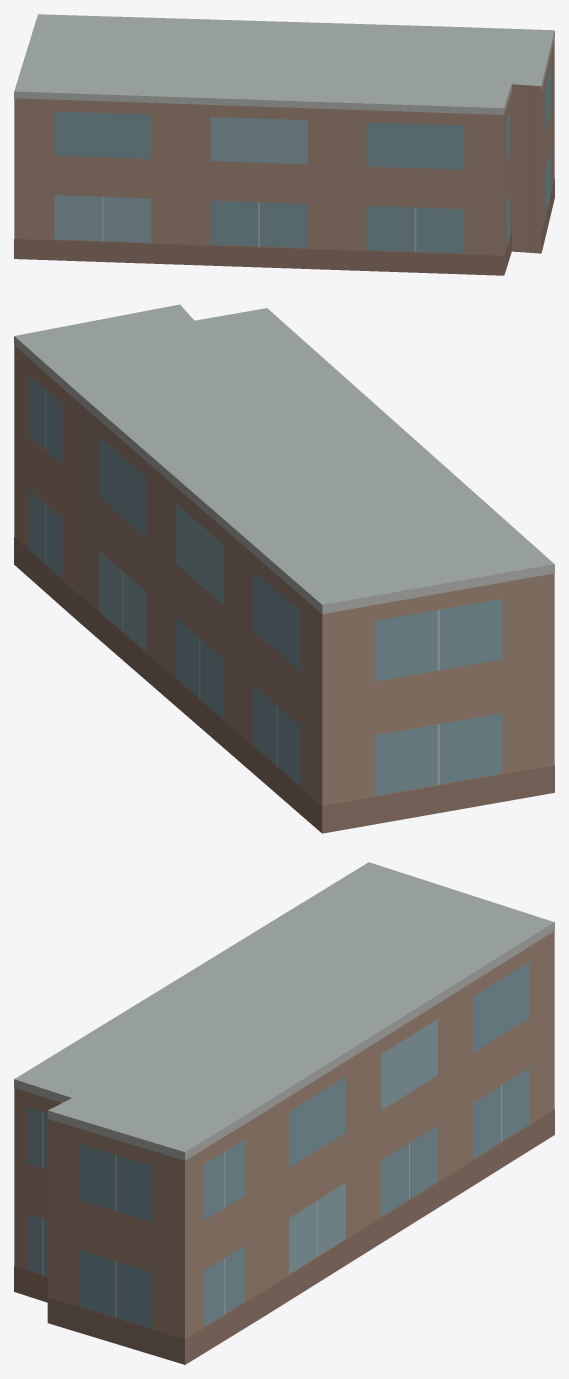
The model's file is survey-upis-32669600.glb.
The picture shows the model from 3 angles, top to bottom: view 1: azimuth 30°, elevation 25°; view 2: azimuth 150°, elevation 25°; view 3: azimuth 270°, elevation 25°; orthographic projection. The views are drawn at different scales.
Visible parts, largest first — view 1: survey-upis-32669600.tmp; view 2: survey-upis-32669600.tmp; view 3: survey-upis-32669600.tmp.
Part boxes in pixels (x1,y1,x2,y2): survey-upis-32669600.tmp: (14,14,554,275); survey-upis-32669600.tmp: (14,304,554,833); survey-upis-32669600.tmp: (14,862,554,1364).
Bounding box in the file's own units: 17.87 × 6.1 × 14.07.
